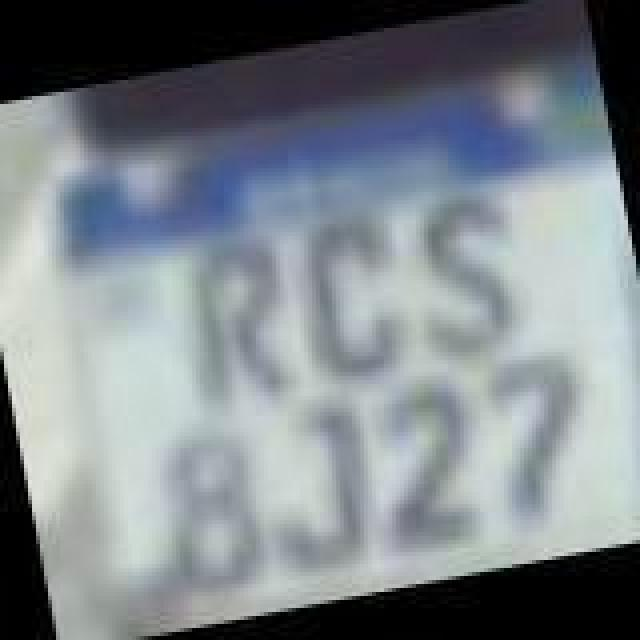2: (358, 374, 490, 554)
7: (468, 348, 604, 524)
8: (148, 414, 276, 594)
C: (292, 214, 412, 386)
J: (256, 398, 384, 578)
R: (172, 228, 308, 412)
S: (402, 192, 526, 360)
